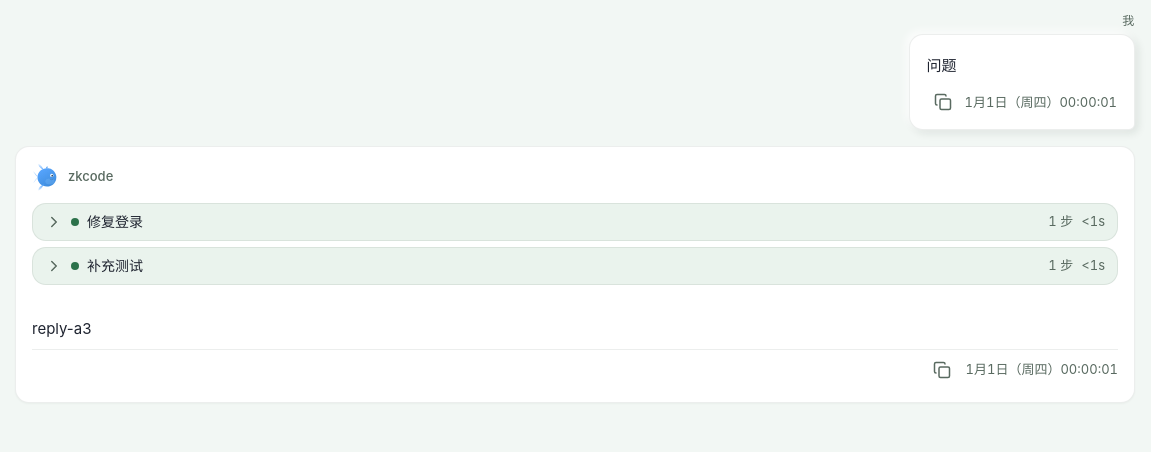
Test: TurnCard balanced 任务分节 › 渲染任务分节条列表，默认折叠；点击分节条写分节 key override
The width and height of the screenshot is (1151, 452).
Expected: the element with test id "turn-task-sections-0" is shown, [32,203,1118,285]
Expected: the element with test id "task-section-0-1" shows "补充测试", [33,248,1117,284]
Click the button "修复登录 1 步 <1s" at (115, 222), box [33,204,1117,240]
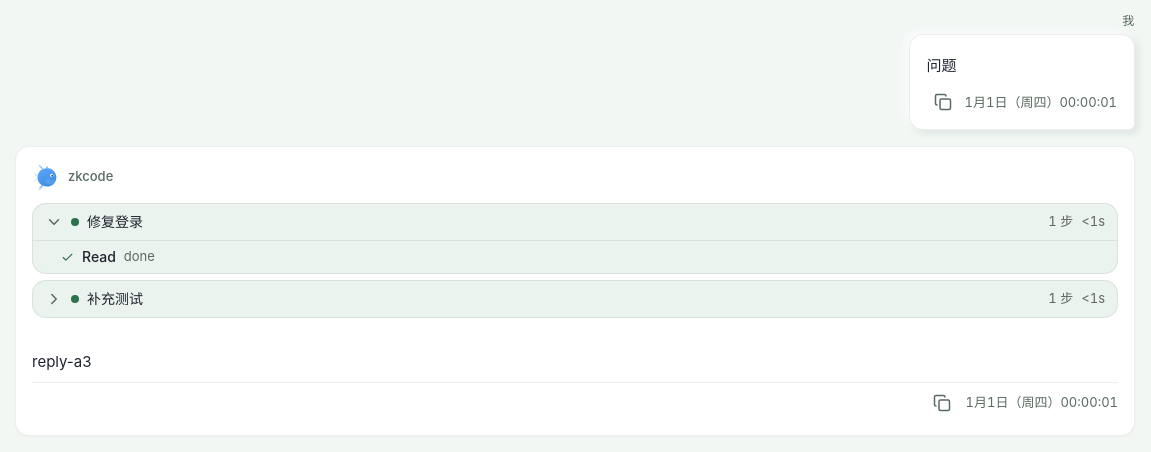
Expected: the element with test id "tool-summary-rows" is shown, [61,248,155,265]
Expected: the element with test id "tool-summary-row-t1" shows "Read", [82,248,116,265]
